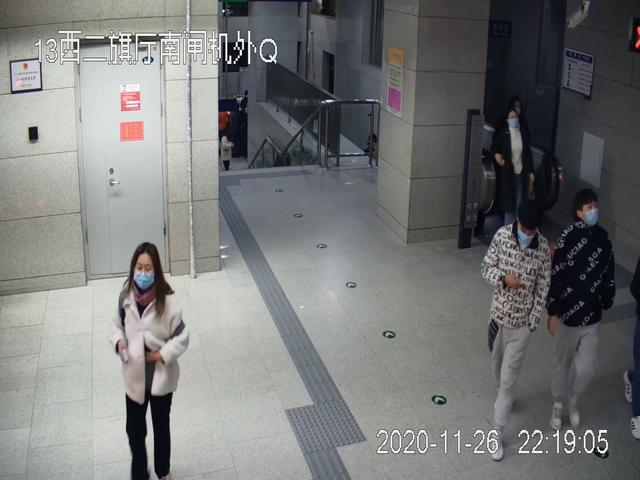person: (111, 242, 190, 480), (482, 202, 552, 461), (547, 189, 616, 431), (494, 108, 535, 227)
